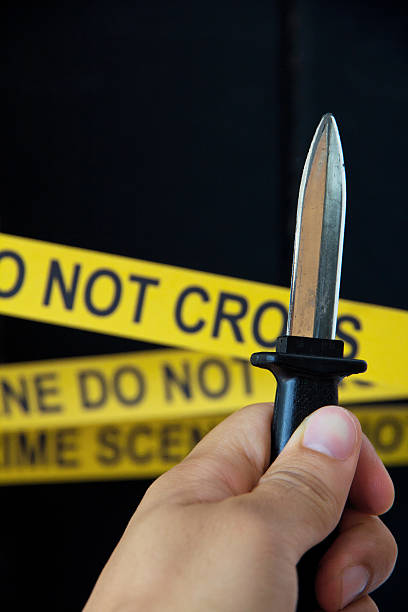knife: (250, 111, 370, 463)
